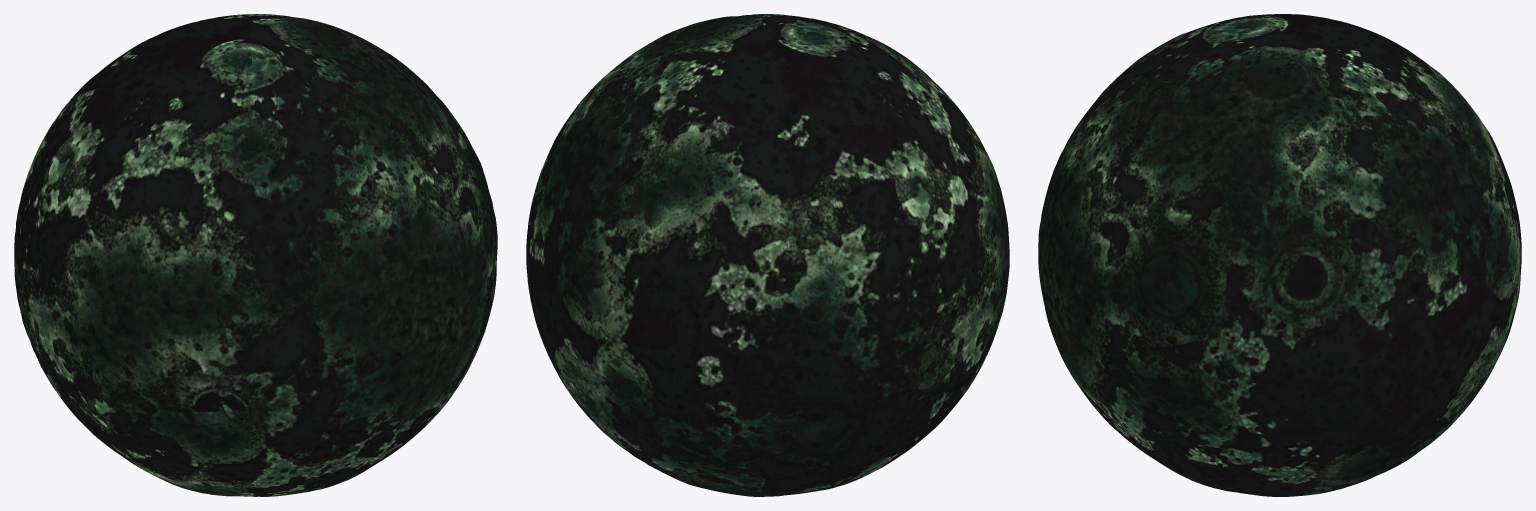
Rendered from green_star.glb.
3 views of the same model, side by side, from view 1: azimuth 30°, elevation 25°; view 2: azimuth 150°, elevation 25°; view 3: azimuth 270°, elevation 25° (orthographic).
Parts seen in each view (by area): view 1: Object_2; view 2: Object_2; view 3: Object_2.
Part boxes in pixels (x1,y1,x2,y2): Object_2: (14, 14, 497, 496); Object_2: (526, 14, 1009, 496); Object_2: (1038, 14, 1521, 496).
Size of the model in its own units: 19.87 by 19.84 by 19.9.
Materials: 1 (1 with a texture image).
